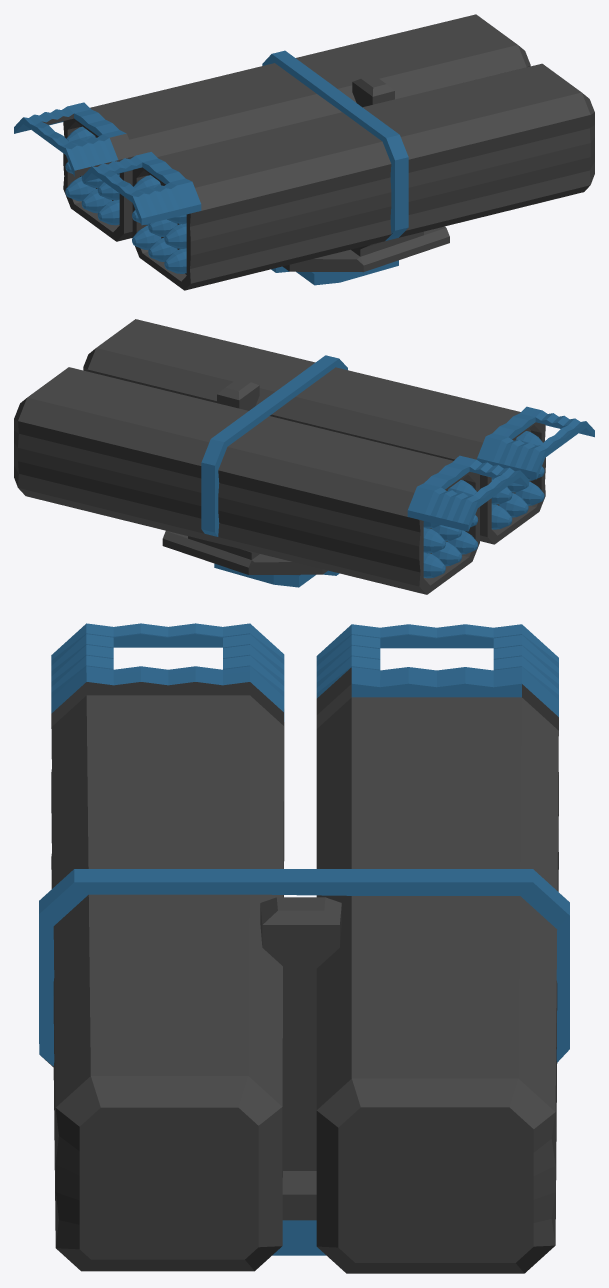
The model's file is missilelauncher.fbx.
3 renders of one model, top to bottom at view 1: azimuth 30°, elevation 25°; view 2: azimuth 150°, elevation 25°; view 3: azimuth 270°, elevation 25°, orthographic. The views are drawn at different scales.
Visible parts, largest first — view 1: Cube.001, Cube.003; view 2: Cube.001, Cube.003; view 3: Cube.001.
Boxes of the visible parts, bbox=[...] form: Cube.001: bbox=[14, 14, 594, 290]; Cube.003: bbox=[65, 126, 186, 273]; Cube.001: bbox=[14, 319, 594, 594]; Cube.003: bbox=[423, 431, 544, 578]; Cube.001: bbox=[39, 623, 569, 1273].
Bounding box in the file's own units: 259 × 92.43 × 129.
